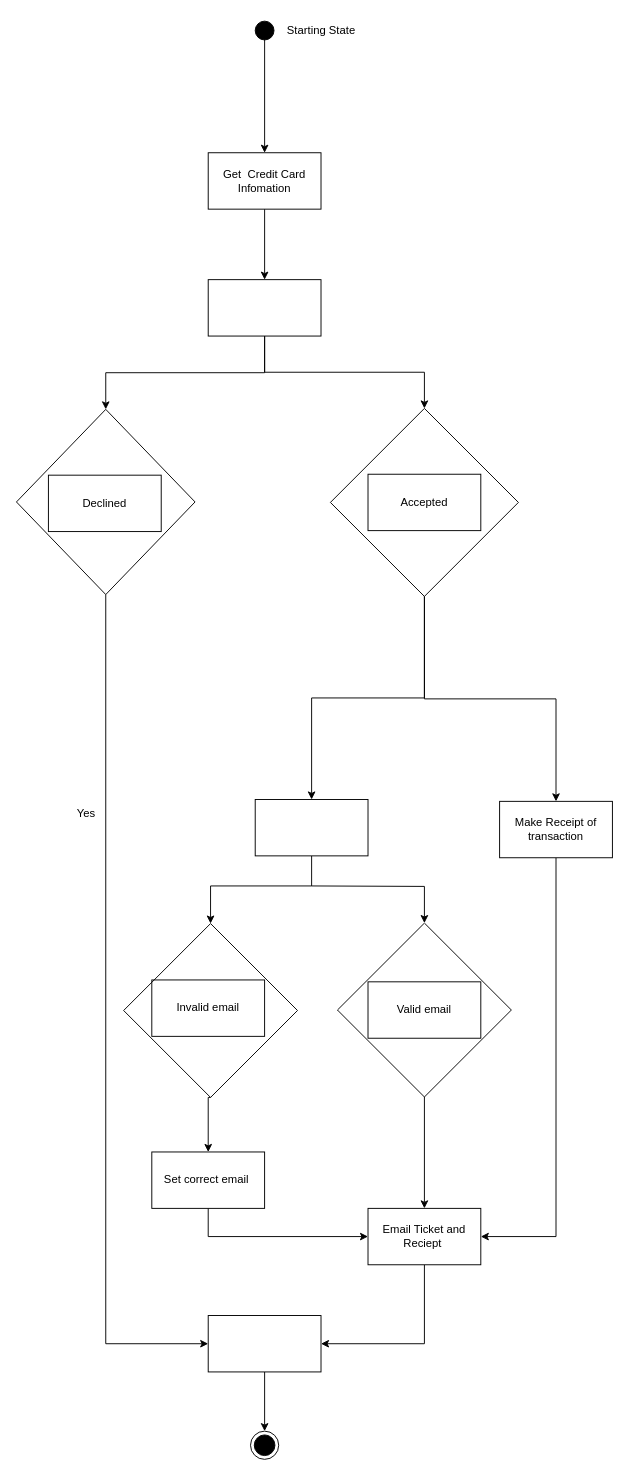
This 629x1476 diagram has some shape labels left out. The centre of each missing label's shape, as x and y in pixels:
Get Ticket and Email Information: [311,827]
Go back to home page: [264,1343]
Processing Payment: [264,307]
